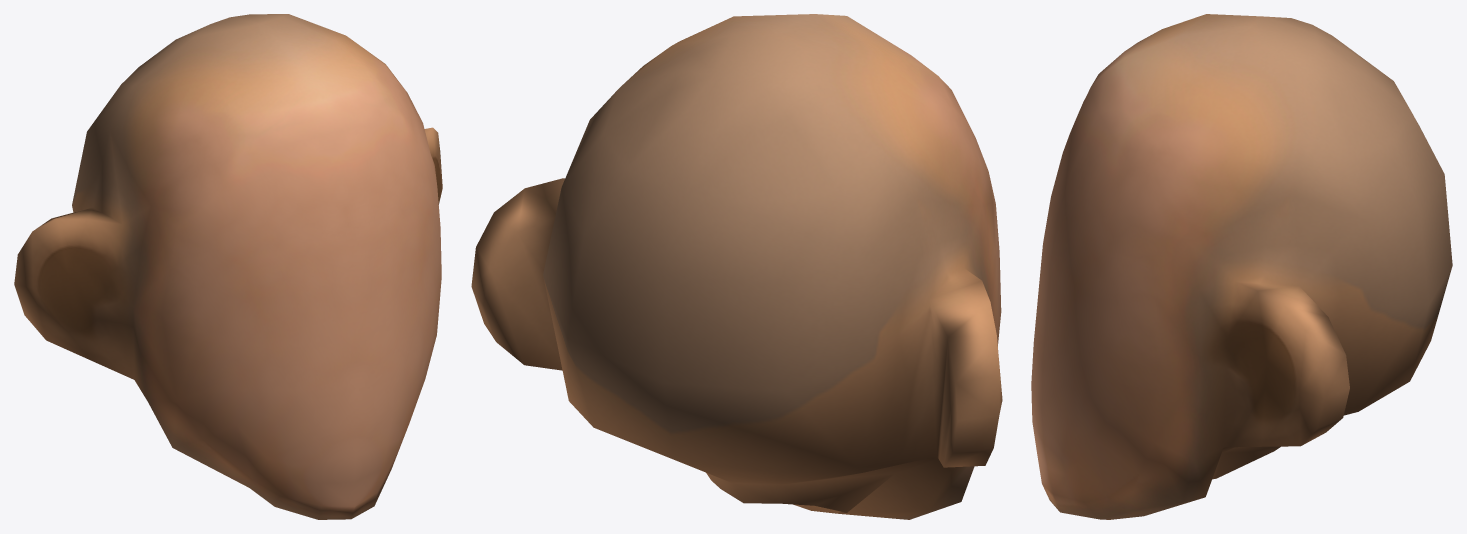
File: TPMaleC(FACELESS head).fbx
The picture shows the model from 3 angles, left to right: view 1: azimuth 30°, elevation 25°; view 2: azimuth 150°, elevation 25°; view 3: azimuth 270°, elevation 25°; orthographic projection. The views are drawn at different scales.
Visible parts, largest first — view 1: HEAD.001; view 2: HEAD.001; view 3: HEAD.001.
Boxes of the visible parts, x1,y1,x2,y2 form: HEAD.001: (14,14,442,519); HEAD.001: (471,14,1002,519); HEAD.001: (1031,14,1452,519).
Bounding box in the file's own units: 27.21 × 21.63 × 27.89.
